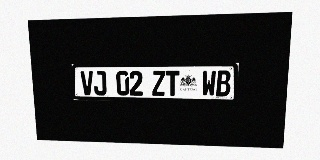0: (116, 71, 129, 96)
2: (129, 71, 143, 96)
B: (216, 70, 231, 96)
J: (93, 71, 107, 95)
T: (166, 71, 179, 96)
V: (80, 71, 94, 95)
W: (202, 70, 216, 96)
Z: (152, 71, 165, 96)
